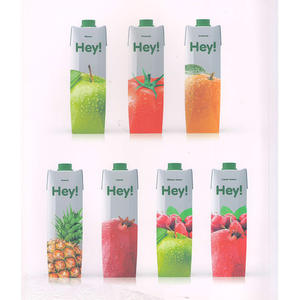carton: (176, 13, 232, 141), (146, 156, 199, 282), (37, 156, 89, 282), (204, 156, 255, 284), (63, 13, 113, 141), (121, 13, 170, 140), (93, 156, 142, 283)
